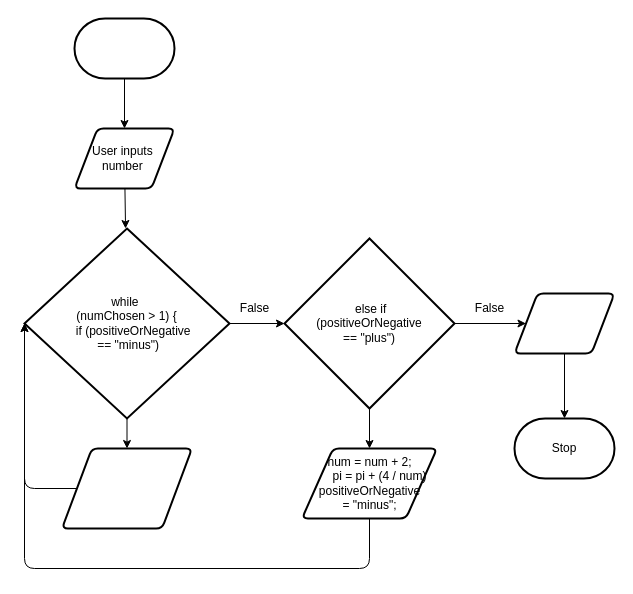
This 633x594 diagram has some shape labels left out. The centre of each missing label's shape, as x and y in pixels:
num = num + 2; pi = pi - (4 / num); positiveOrNegative = "plus";: [126,488]
Show calculation: [564,323]
Start: [124,48]
